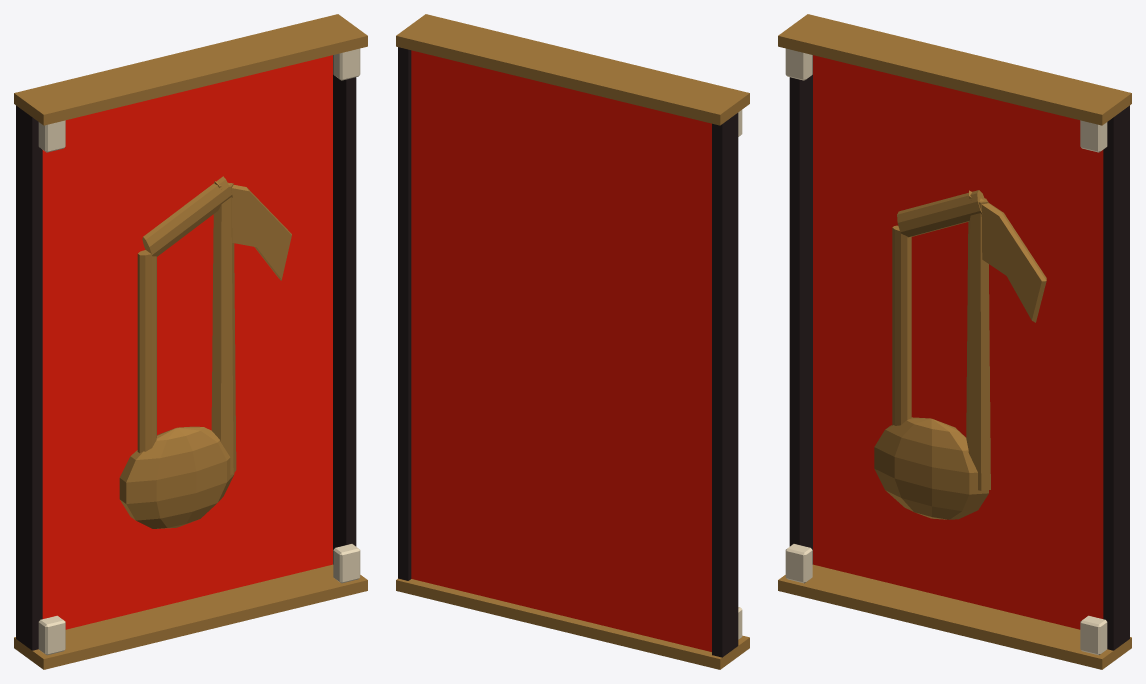
Rendered from FXM_S14_NoteGate.fbx.
3 renders of one model, left to right at view 1: azimuth 30°, elevation 25°; view 2: azimuth 150°, elevation 25°; view 3: azimuth 330°, elevation 25°, orthographic.
Parts seen in each view (by area): view 1: SM_FXM_S14_NoteGate_Curtain_LOD0, SM_FXM_S14_NoteGate_LOD0; view 2: SM_FXM_S14_NoteGate_Curtain_LOD0, SM_FXM_S14_NoteGate_LOD0; view 3: SM_FXM_S14_NoteGate_Curtain_LOD0, SM_FXM_S14_NoteGate_LOD0.
Boxes of the visible parts, box(x1,y1,x2,y2) form: SM_FXM_S14_NoteGate_Curtain_LOD0: box(42, 55, 332, 629); SM_FXM_S14_NoteGate_LOD0: box(14, 14, 367, 669); SM_FXM_S14_NoteGate_Curtain_LOD0: box(411, 50, 711, 651); SM_FXM_S14_NoteGate_LOD0: box(396, 14, 749, 669); SM_FXM_S14_NoteGate_Curtain_LOD0: box(813, 55, 1103, 629); SM_FXM_S14_NoteGate_LOD0: box(778, 14, 1131, 669).
Size of what is drawn, in the model's own units: 2.2 by 3.6 by 0.35.
2 materials, 2 textured.
